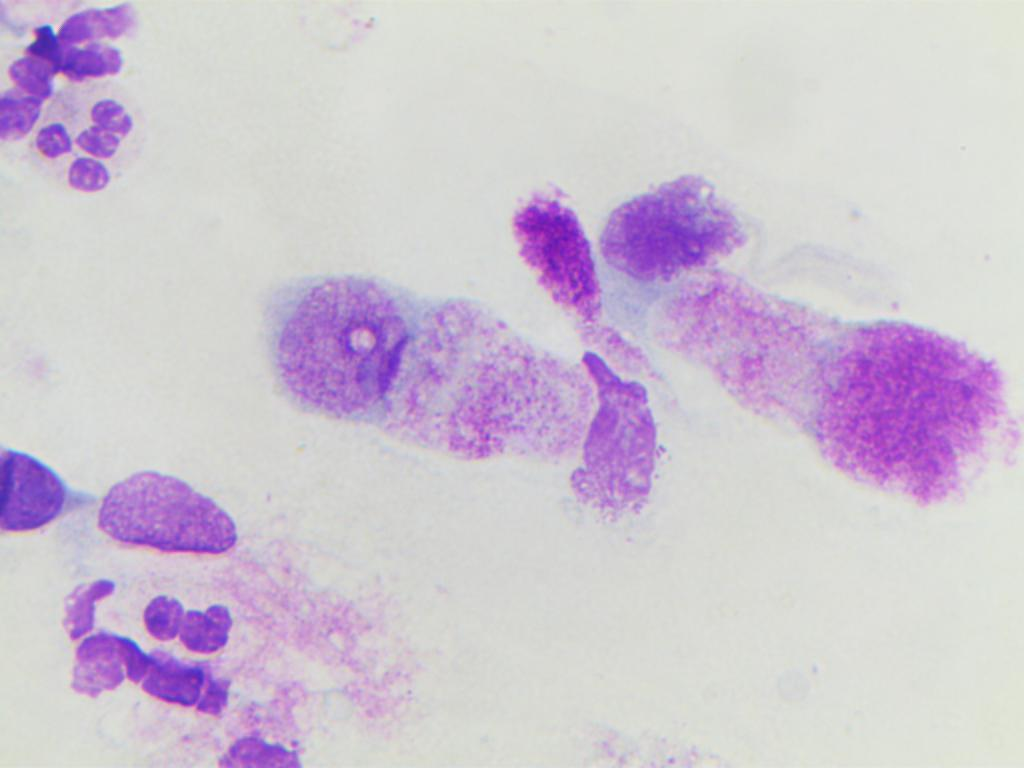artifact: (489, 176, 599, 332)
epithelial: (99, 444, 254, 576)
goblet_cell: (255, 268, 573, 480)
neutrophil: (45, 590, 233, 732), (29, 78, 161, 212), (135, 576, 276, 666)
